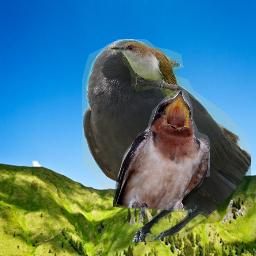Crow: (82, 39, 251, 242)
Cuckoo: (109, 42, 189, 127)
Swallow: (113, 90, 210, 219)
